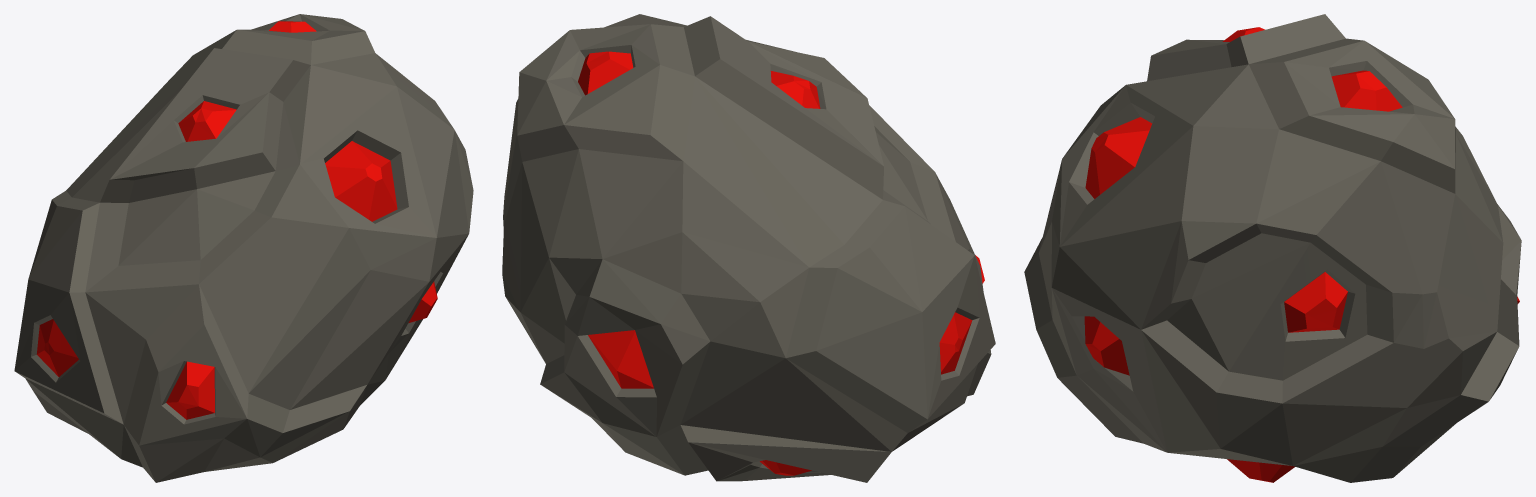
Rendered from Asteroid.fbx.
3 views of the same model, side by side, from view 1: azimuth 30°, elevation 25°; view 2: azimuth 150°, elevation 25°; view 3: azimuth 270°, elevation 25° (orthographic). The views are drawn at different scales.
Parts seen in each view (by area): view 1: Asteroid; view 2: Asteroid; view 3: Asteroid.
Part boxes in pixels (x1,y1,x2,y2): Asteroid: (14,14,473,482); Asteroid: (502,14,995,482); Asteroid: (1024,14,1521,482).
Bounding box in the file's own units: 178 × 164 × 162.
